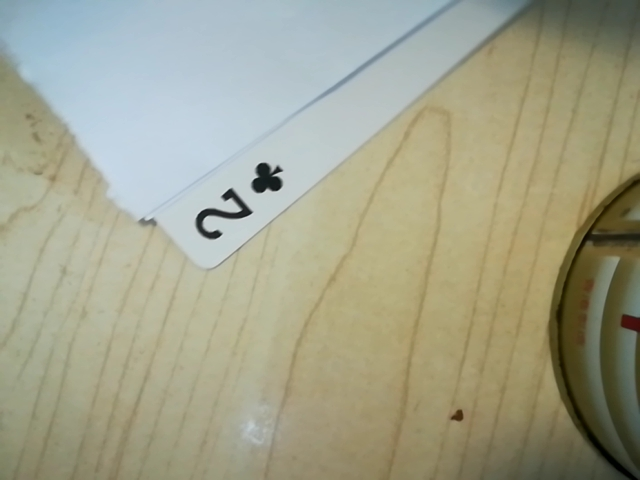mh 2: (178, 157, 295, 250)
